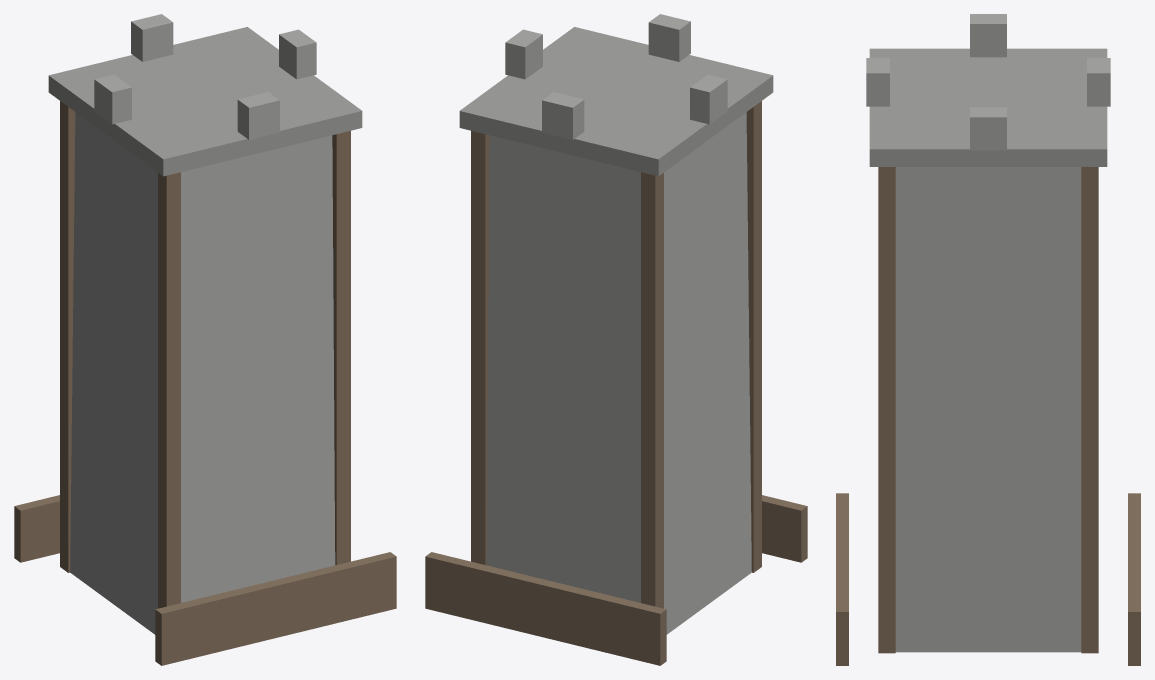
The model's file is tower.glb.
3 renders of one model, left to right at view 1: azimuth 30°, elevation 25°; view 2: azimuth 150°, elevation 25°; view 3: azimuth 270°, elevation 25°, orthographic. The views are drawn at different scales.
Parts seen in each view (by area): view 1: tower; view 2: tower; view 3: tower.
Boxes of the visible parts, left/top/right/bottom form: tower: left=14, top=14, right=396, bottom=665; tower: left=425, top=14, right=807, bottom=665; tower: left=836, top=14, right=1140, bottom=665.
Bounding box in the file's own units: 2.6 × 5.52 × 2.82.
